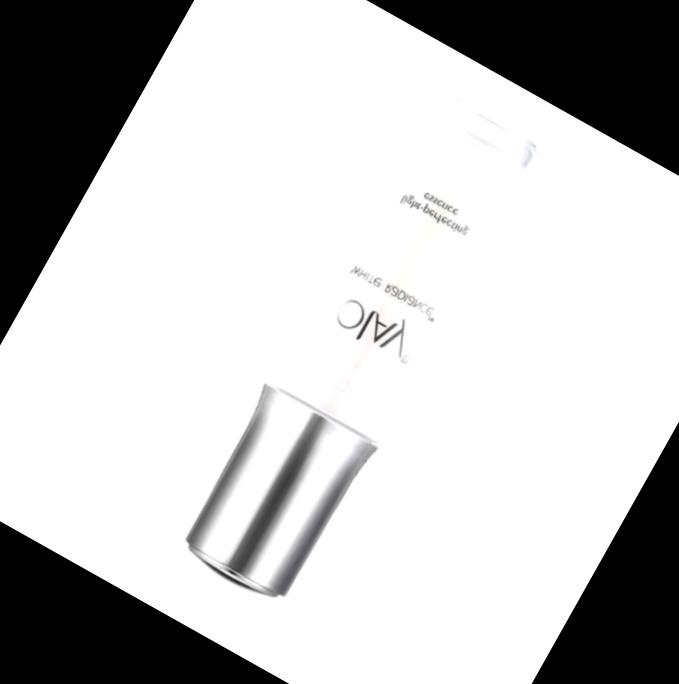cosmetic: (168, 91, 543, 615)
